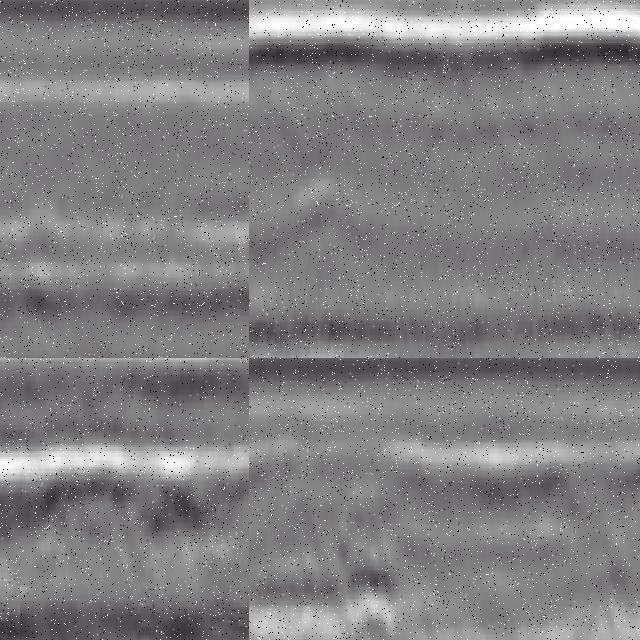crack: (348, 448, 390, 640)
